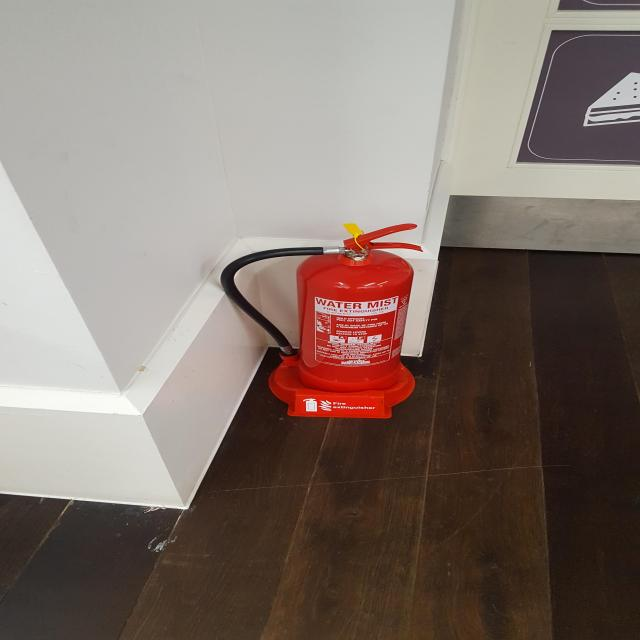fire_extinguisher: (216, 222, 432, 400)
